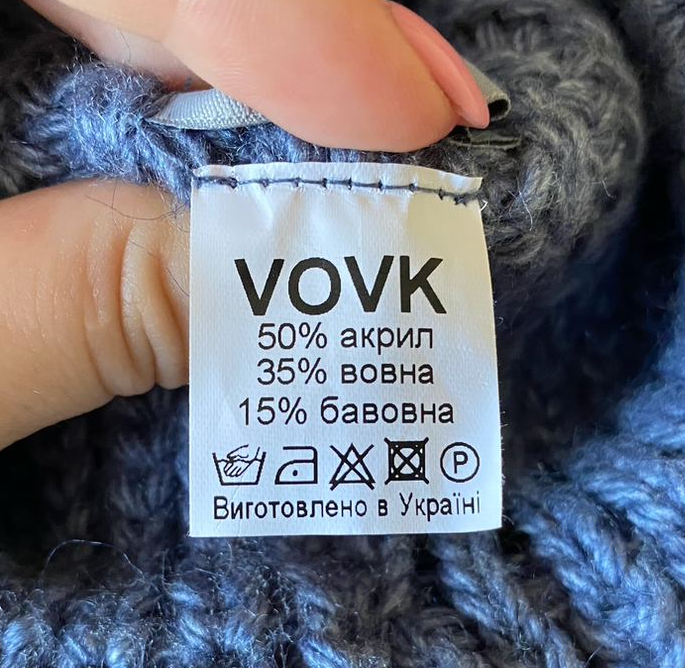do_not_bleach: (327, 440, 379, 492)
do_not_tumble_drying: (381, 434, 431, 488)
dry_clean_tetrachloroethylene_pce_only: (437, 440, 481, 484)
hand_wash: (209, 441, 269, 491)
ironing_at_low_temp: (271, 442, 319, 489)
